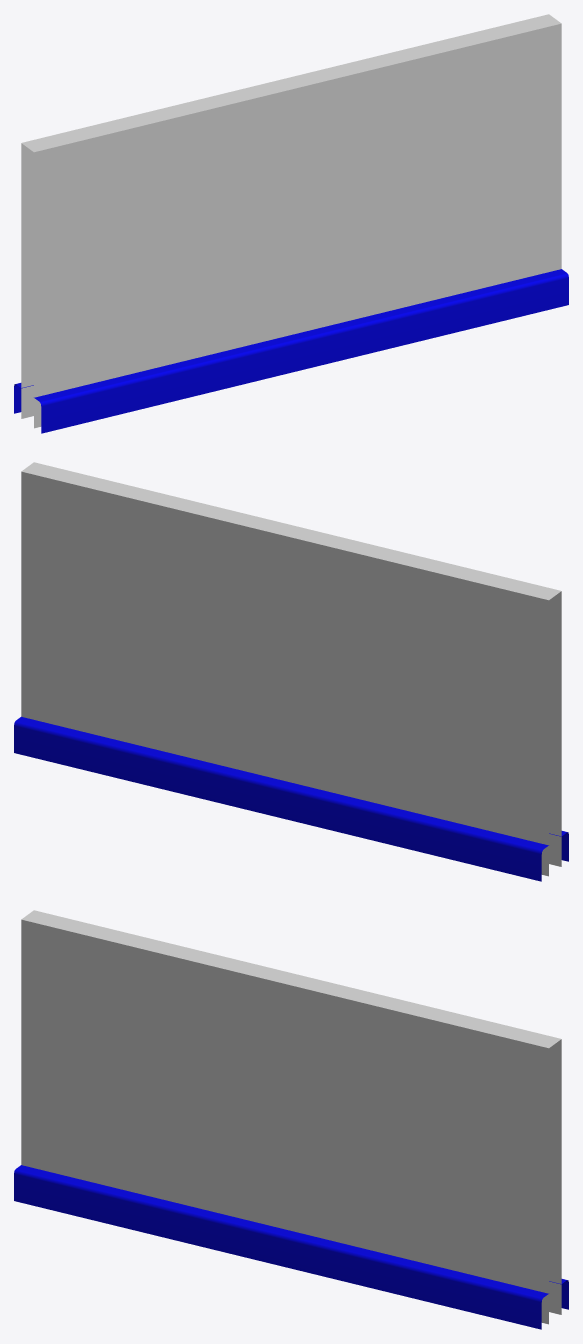
The model's file is HalfPlainWall.fbx.
3 renders of one model, top to bottom at view 1: azimuth 30°, elevation 25°; view 2: azimuth 150°, elevation 25°; view 3: azimuth 330°, elevation 25°, orthographic.
Visible parts, largest first — view 1: Wall, Trim; view 2: Wall, Trim; view 3: Wall, Trim.
Part boxes in pixels (x1=…): Wall: x1=21, y1=14, x2=561, y2=428; Trim: x1=14, y1=269, x2=568, y2=433; Wall: x1=21, y1=462, x2=561, y2=876; Trim: x1=14, y1=716, x2=568, y2=881; Wall: x1=21, y1=910, x2=561, y2=1324; Trim: x1=14, y1=1165, x2=568, y2=1329.
Bounding box in the file's own units: 12 × 6 × 1.07.
